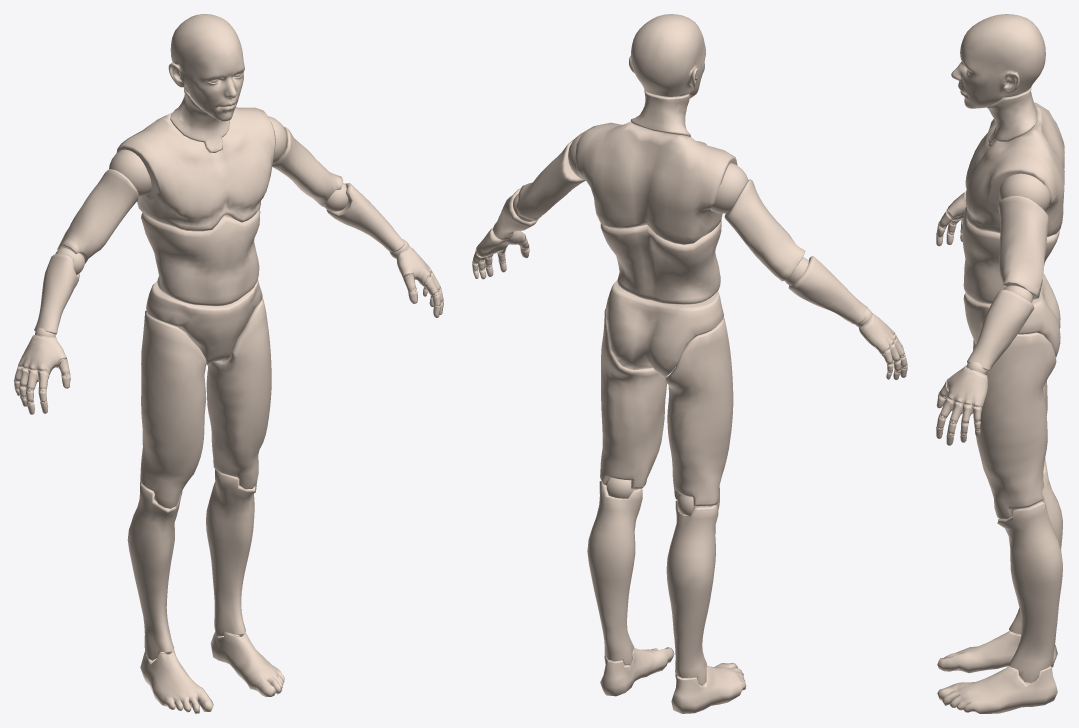
Rendered from base_kun.glb.
3 renders of one model, left to right at view 1: azimuth 30°, elevation 25°; view 2: azimuth 150°, elevation 25°; view 3: azimuth 270°, elevation 25°, orthographic.
Visible parts, largest first — view 1: thigh, bust, shins, core, upperarms, head, foot, lowerarms, trunk, fingers, hands, neck; view 2: thigh, bust, shins, upperarms, core, trunk, head, foot, lowerarms, neck, hands, fingers; view 3: thigh, shins, bust, head, foot, upperarms, lowerarms, core, trunk, fingers, neck, hands.
Part boxes in pixels (<box>): thigh: <box>140,298,271,508</box>; bust: <box>116,107,275,231</box>; shins: <box>127,469,256,660</box>; core: <box>141,209,260,306</box>; upperarms: <box>57,116,343,263</box>; head: <box>168,14,244,121</box>; foot: <box>140,626,284,713</box>; lowerarms: <box>34,183,404,334</box>; trunk: <box>146,280,262,365</box>; fingers: <box>14,271,443,414</box>; hands: <box>18,239,431,374</box>; neck: <box>170,88,229,152</box>; thigh: <box>600,308,733,509</box>; bust: <box>575,122,737,244</box>; shins: <box>587,477,718,685</box>; upperarms: <box>516,132,805,281</box>; core: <box>600,221,721,304</box>; trunk: <box>606,279,723,377</box>; head: <box>629,14,705,98</box>; foot: <box>600,647,746,713</box>; lowerarms: <box>492,188,868,324</box>; neck: <box>630,90,690,136</box>; hands: <box>476,222,895,354</box>; fingers: <box>472,235,907,379</box>; thigh: <box>973,332,1056,519</box>; shins: <box>997,458,1062,682</box>; bust: <box>965,102,1064,236</box>; head: <box>951,14,1045,108</box>; foot: <box>937,631,1057,713</box>; upperarms: <box>998,173,1050,299</box>; lowerarms: <box>967,285,1034,371</box>; core: <box>962,207,1059,303</box>; trunk: <box>963,274,1060,357</box>; fingers: <box>936,210,982,445</box>; neck: <box>987,87,1037,147</box>; hands: <box>946,191,987,407</box>.
Size of the model in its own units: 1.15 by 1.75 by 0.3046.
